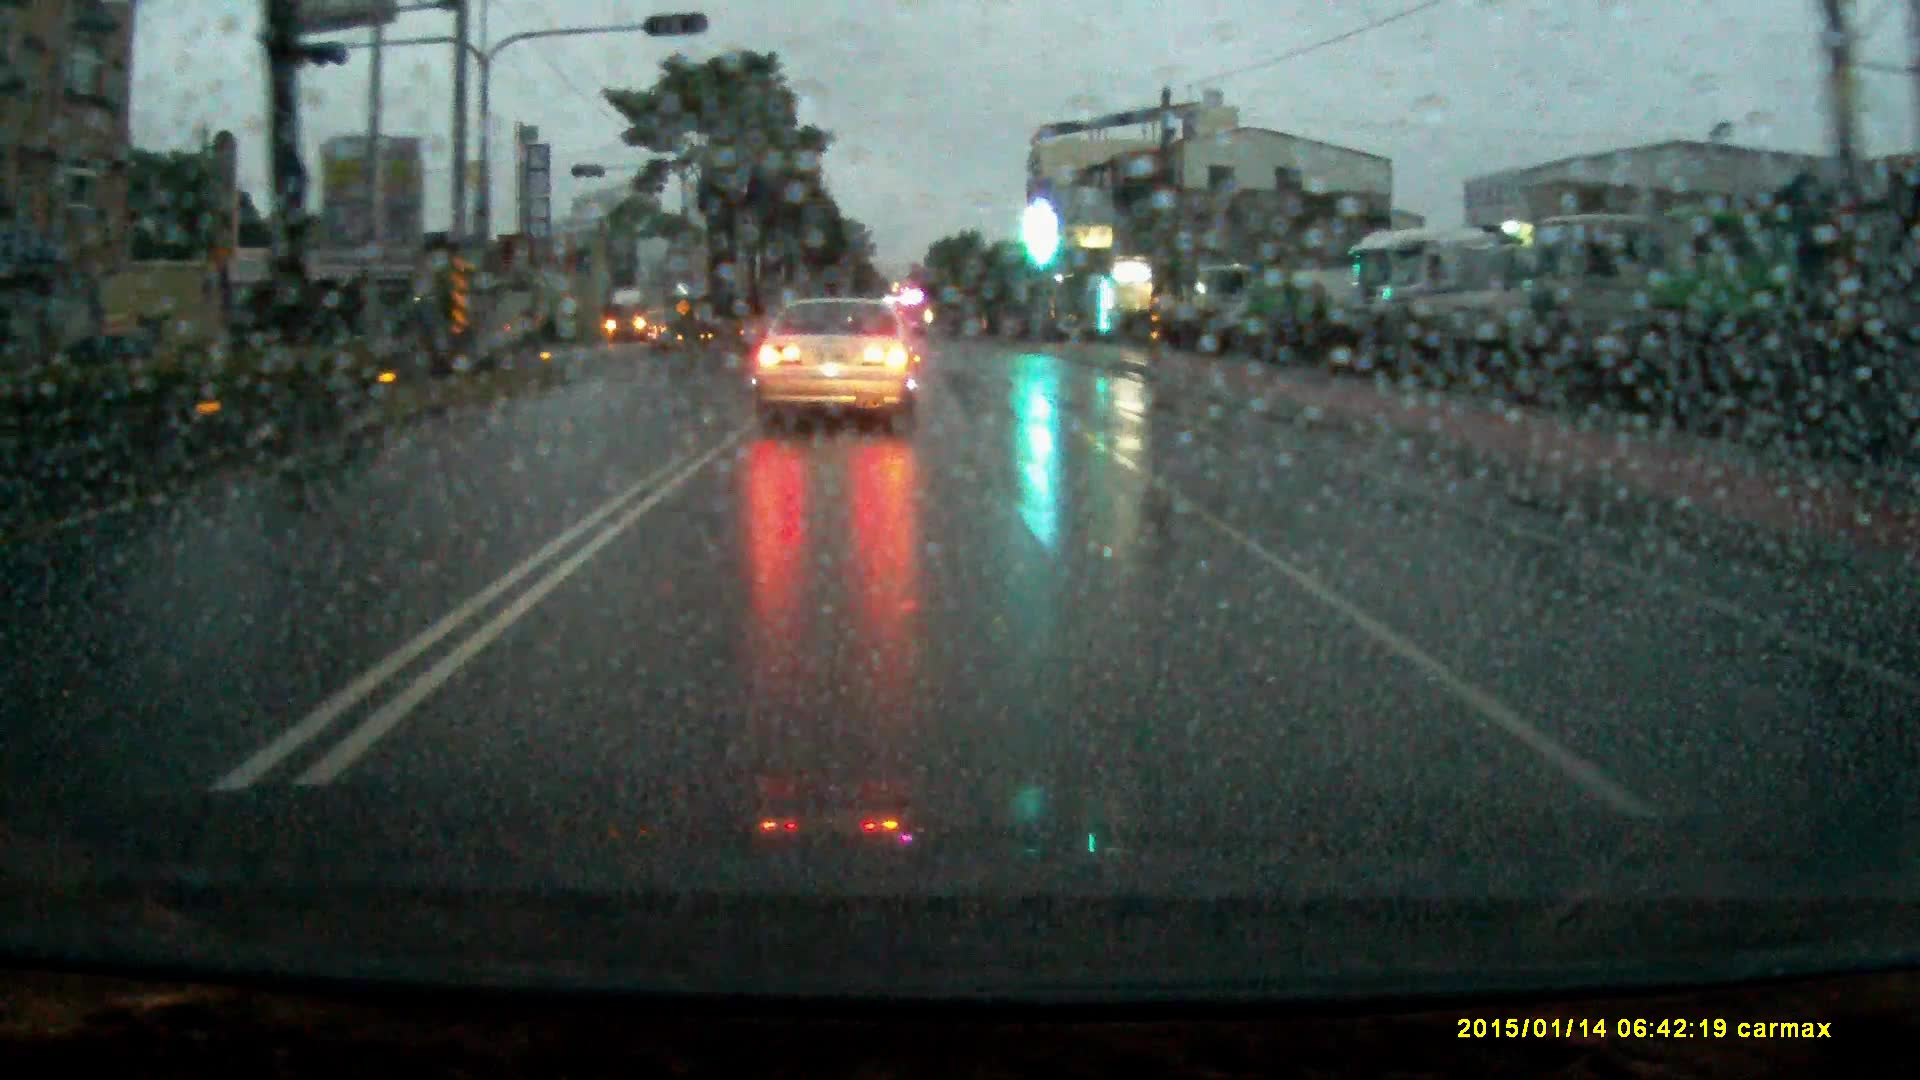vehicle: (1663, 196, 1808, 429), (1530, 208, 1656, 401), (752, 298, 923, 431), (1418, 225, 1528, 371), (1346, 236, 1439, 345), (1232, 272, 1373, 334), (1193, 264, 1258, 330), (607, 287, 669, 342)
